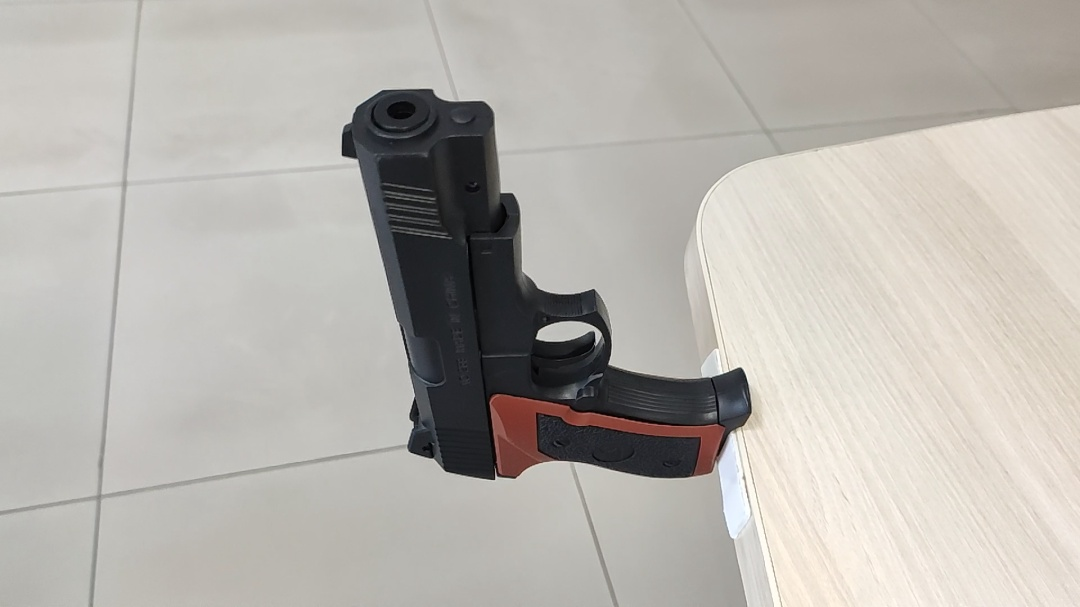gun: (606, 166, 854, 310)
